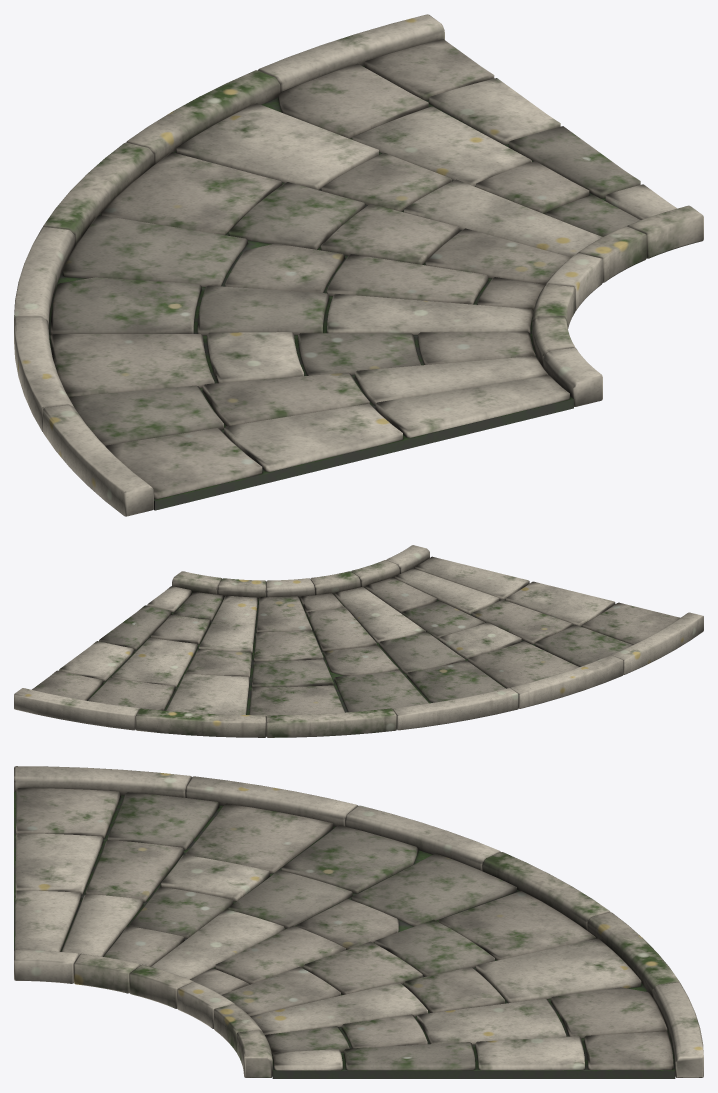
Rendered from FlagCurve90.fbx.
3 views of the same model, one above another, from view 1: azimuth 30°, elevation 25°; view 2: azimuth 150°, elevation 25°; view 3: azimuth 270°, elevation 25° (orthographic). The views are drawn at different scales.
Visible parts, largest first — view 1: FlagCurve90; view 2: FlagCurve90; view 3: FlagCurve90.
Part boxes in pixels (x1,y1,x2,y2): FlagCurve90: (14,14,703,516); FlagCurve90: (14,545,703,737); FlagCurve90: (14,766,703,1078).
Size of the model in its own units: 1200 by 42 by 1200.
